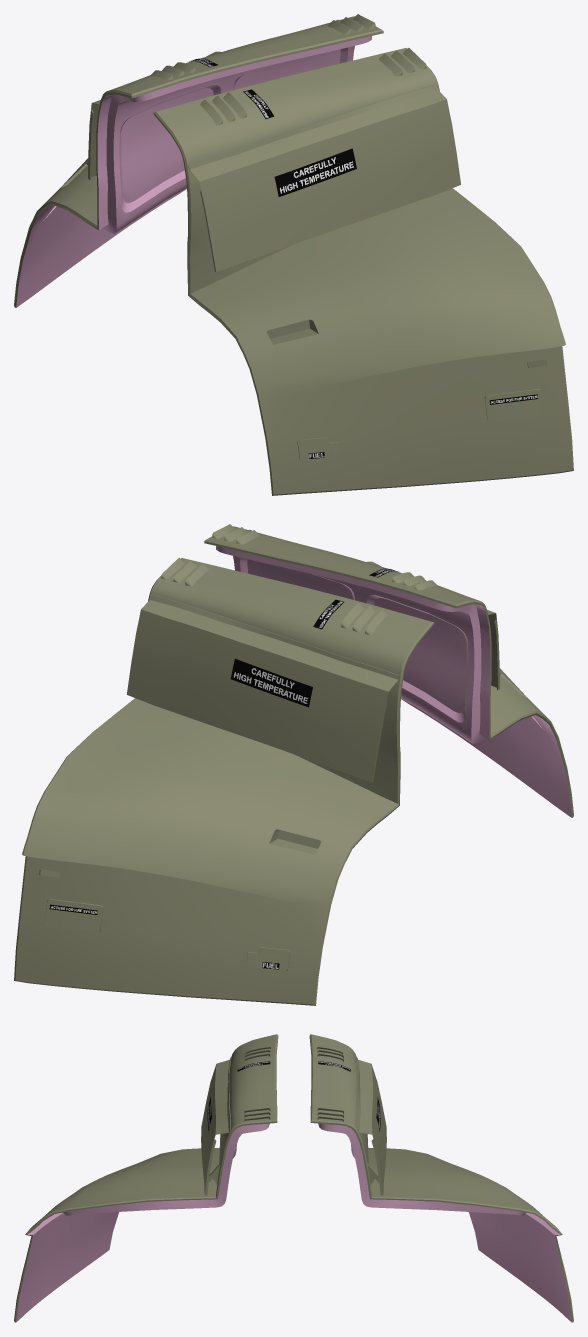
File: helicopter_uh_doors_c.fbx
3 renders of one model, top to bottom at view 1: azimuth 30°, elevation 25°; view 2: azimuth 150°, elevation 25°; view 3: azimuth 270°, elevation 25°, orthographic. The views are drawn at different scales.
Parts seen in each view (by area): view 1: helicopter_uh_doors_c; view 2: helicopter_uh_doors_c; view 3: helicopter_uh_doors_c.
Part boxes in pixels (x1=…): helicopter_uh_doors_c: x1=14, y1=14, x2=573, y2=495; helicopter_uh_doors_c: x1=14, y1=524, x2=573, y2=1005; helicopter_uh_doors_c: x1=14, y1=1034, x2=573, y2=1322.
Bounding box in the file's own units: 91.6 × 104 × 240.
3 materials, 1 textured.
